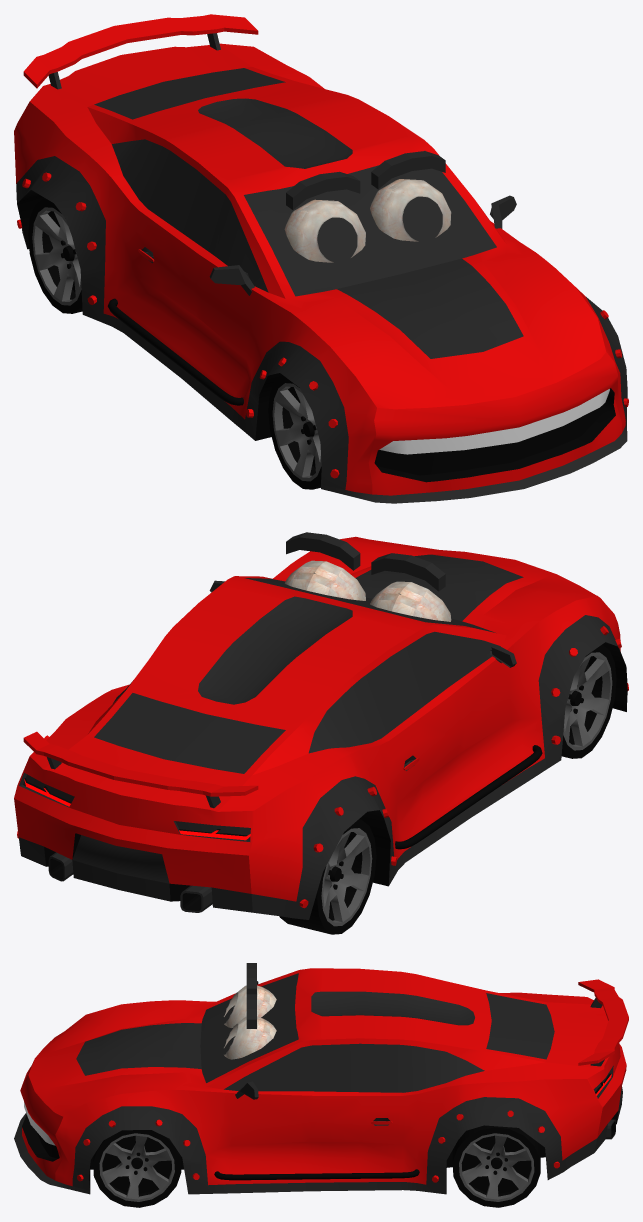
The model's file is RED.fbx.
3 views of the same model, one above another, from view 1: azimuth 30°, elevation 25°; view 2: azimuth 150°, elevation 25°; view 3: azimuth 270°, elevation 25° (orthographic). The views are drawn at different scales.
Parts seen in each view (by area): view 1: ARMOURED.CAR, BOUNCER.002, Cylinder.008, Cylinder.009; view 2: ARMOURED.CAR, BOUNCER.002, Cylinder.008, Cylinder.009; view 3: ARMOURED.CAR, Cylinder.010, Cylinder.011, BOUNCER.002.
Boxes of the visible parts, box(x1,y1,x2,y2) form: ARMOURED.CAR: box(14, 14, 628, 503); BOUNCER.002: box(284, 151, 451, 262); Cylinder.008: box(28, 198, 82, 313); Cylinder.009: box(268, 375, 321, 489); ARMOURED.CAR: box(14, 536, 628, 919); BOUNCER.002: box(285, 532, 451, 621); Cylinder.008: box(279, 819, 376, 934); Cylinder.009: box(561, 644, 616, 758); ARMOURED.CAR: box(14, 968, 628, 1194); Cylinder.010: box(452, 1125, 540, 1207); Cylinder.011: box(93, 1130, 181, 1207); BOUNCER.002: box(223, 963, 276, 1059).
Bounding box in the file's own units: 234 × 162 × 528.
Materials: 8 (1 with a texture image).
